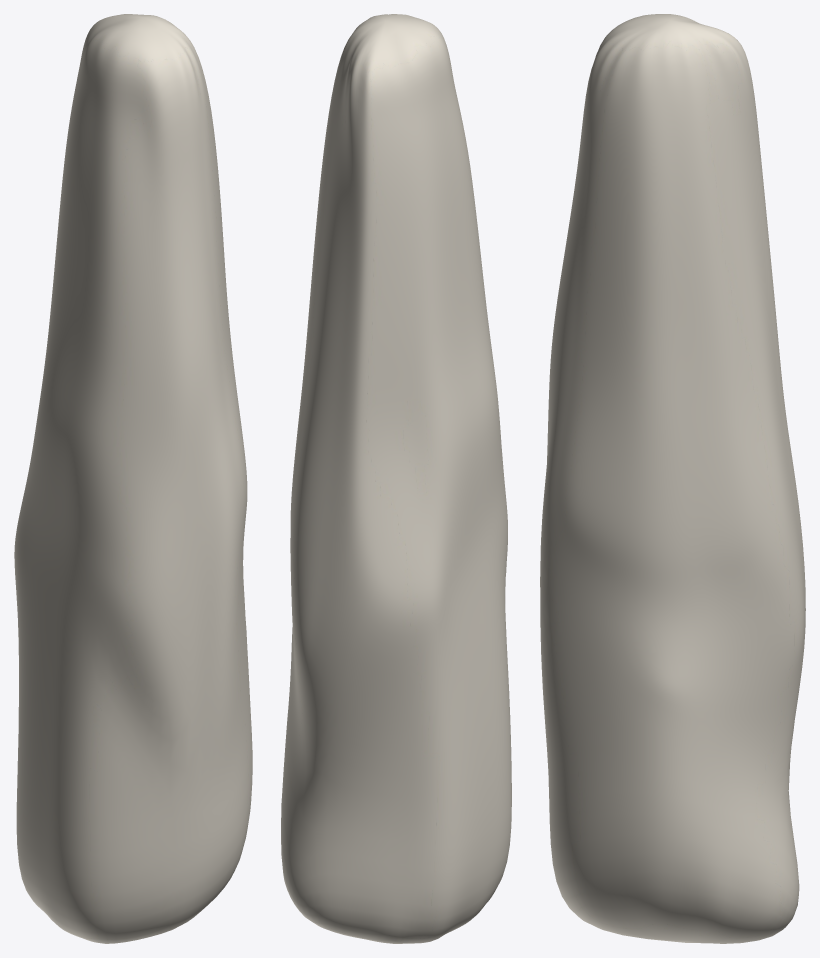
The model's file is rightLowerArm.dae.
3 renders of one model, left to right at view 1: azimuth 30°, elevation 25°; view 2: azimuth 150°, elevation 25°; view 3: azimuth 270°, elevation 25°, orthographic. The views are drawn at different scales.
Parts seen in each view (by area): view 1: HyperNURBS.1; view 2: HyperNURBS.1; view 3: HyperNURBS.1.
Part boxes in pixels (x1,y1,x2,y2): HyperNURBS.1: (14,14,252,943); HyperNURBS.1: (281,14,511,943); HyperNURBS.1: (540,14,805,943).
Size of the model in its own units: 44.18 by 192 by 49.97.
1 material, 1 textured.
